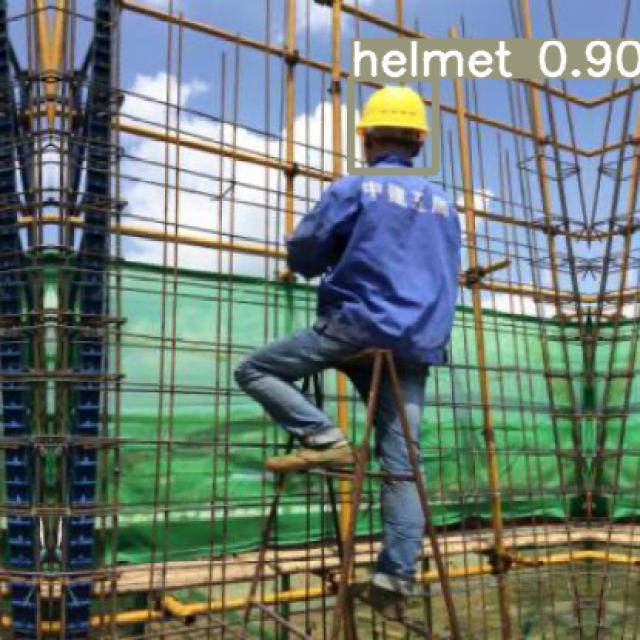yellow helmet: (336, 84, 458, 149)
